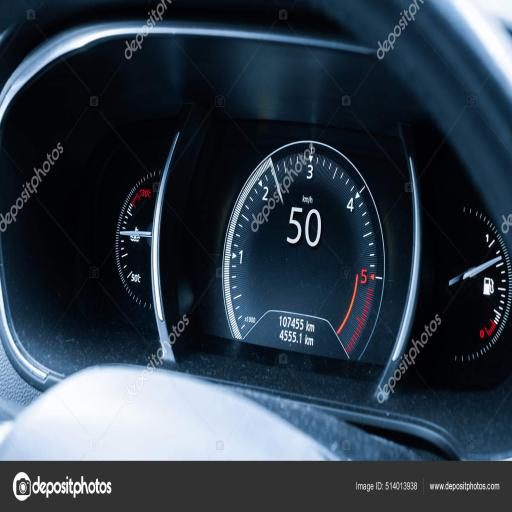empty: (477, 322, 485, 341)
fuel_icon: (481, 274, 495, 296)
full: (481, 230, 490, 245)
guage_area: (417, 133, 512, 405)
needle_center: (448, 262, 478, 298)
needle_tip: (494, 252, 503, 265)
